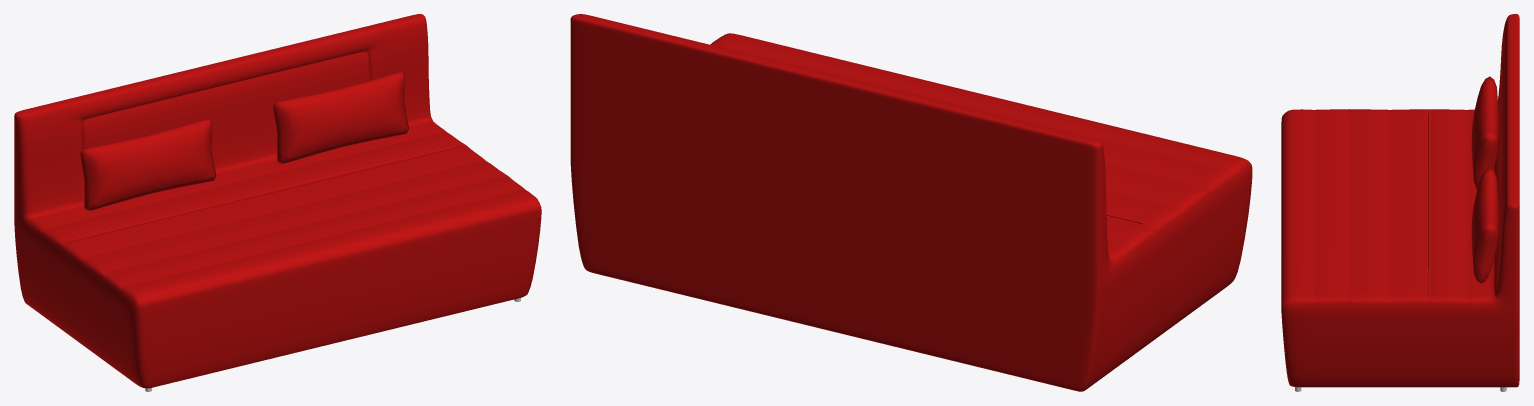
Rendered from IKEA-Beddinge_Sofa_bed-3D.obj.
3 renders of one model, left to right at view 1: azimuth 30°, elevation 25°; view 2: azimuth 150°, elevation 25°; view 3: azimuth 270°, elevation 25°, orthographic. The views are drawn at different scales.
Visible parts, largest first — view 1: Box05, Box02, Box03; view 2: Box05; view 3: Box05, Box03, Box02.
Boxes of the visible parts, x1=… form: Box05: x1=14, y1=14, x2=541, y2=388; Box02: x1=80, y1=118, x2=216, y2=210; Box03: x1=273, y1=71, x2=408, y2=163; Box05: x1=570, y1=14, x2=1252, y2=391; Box05: x1=1281, y1=14, x2=1519, y2=387; Box03: x1=1471, y1=167, x2=1498, y2=283; Box02: x1=1471, y1=76, x2=1498, y2=189.
Bounding box in the file's own units: 200 × 93.36 × 104.
